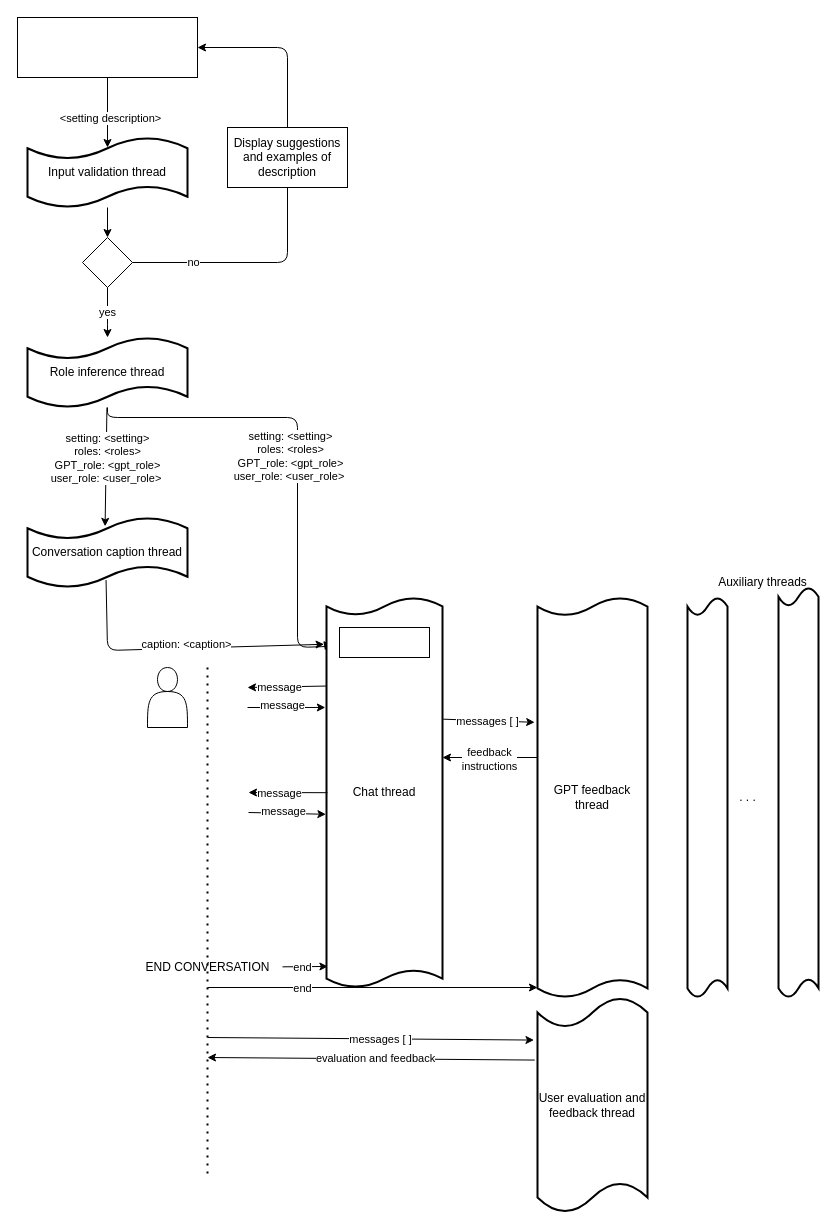
Some shapes in this 837 by 1231 pixel diagram are drawn without their labels. The centre of each missing label's shape, as x and y in pixels:
initiate chat thread: the point at 384,642
User input: - setting description - language proficiency level - aim/focus: the point at 107,47
valid?: the point at 107,262
